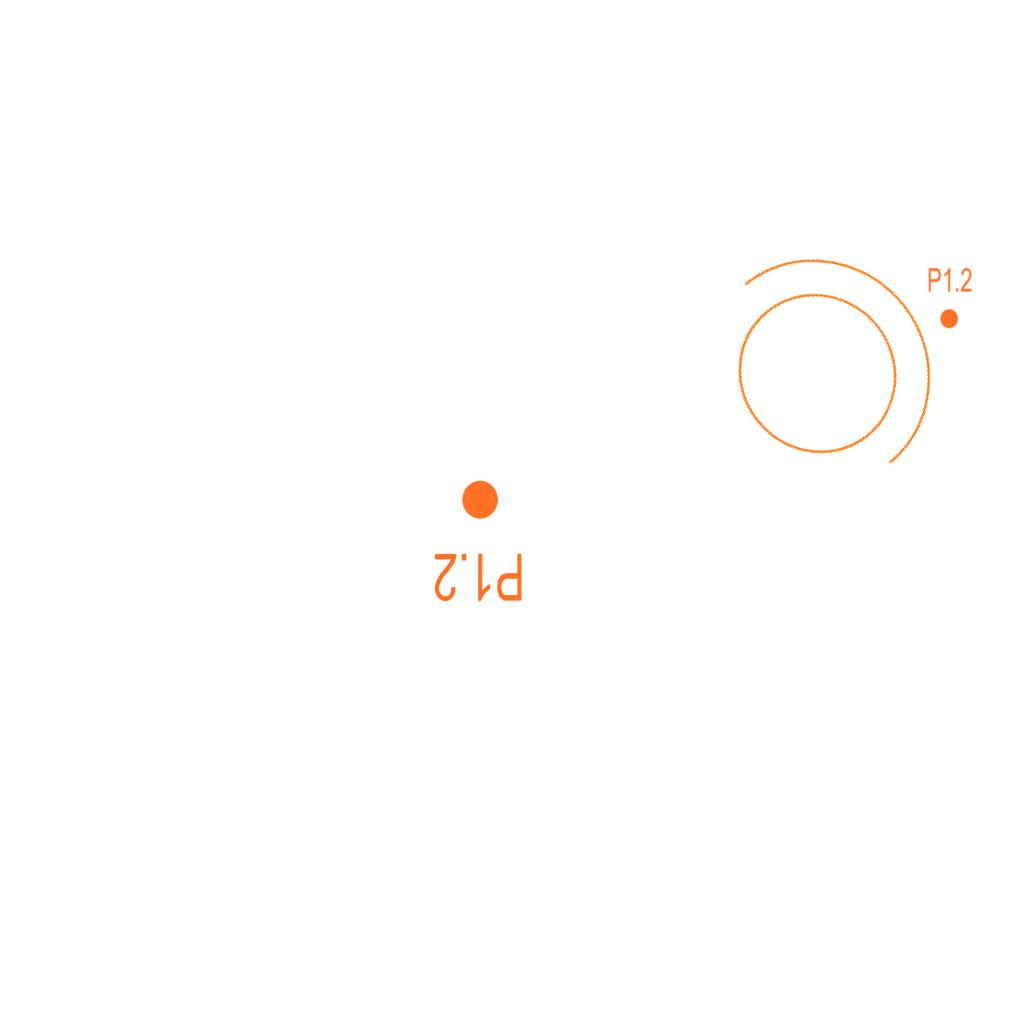Downlight_LED_Einbauleuchten_Flur: (432, 477, 525, 605), (927, 266, 973, 330)
Scheinwerfer_fuer_Alarmbeleuchtung: (650, 189, 992, 536)
